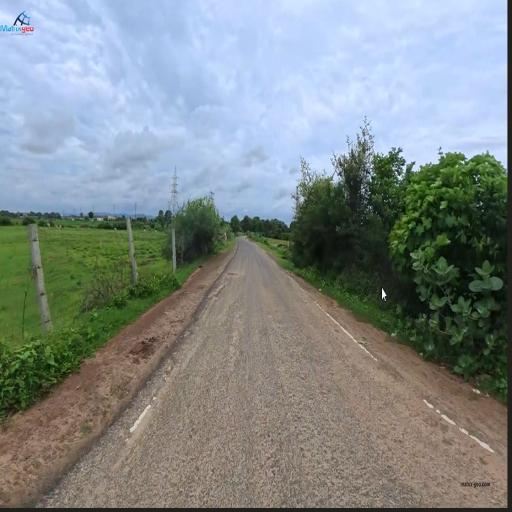ravelling: (214, 326, 317, 477)
